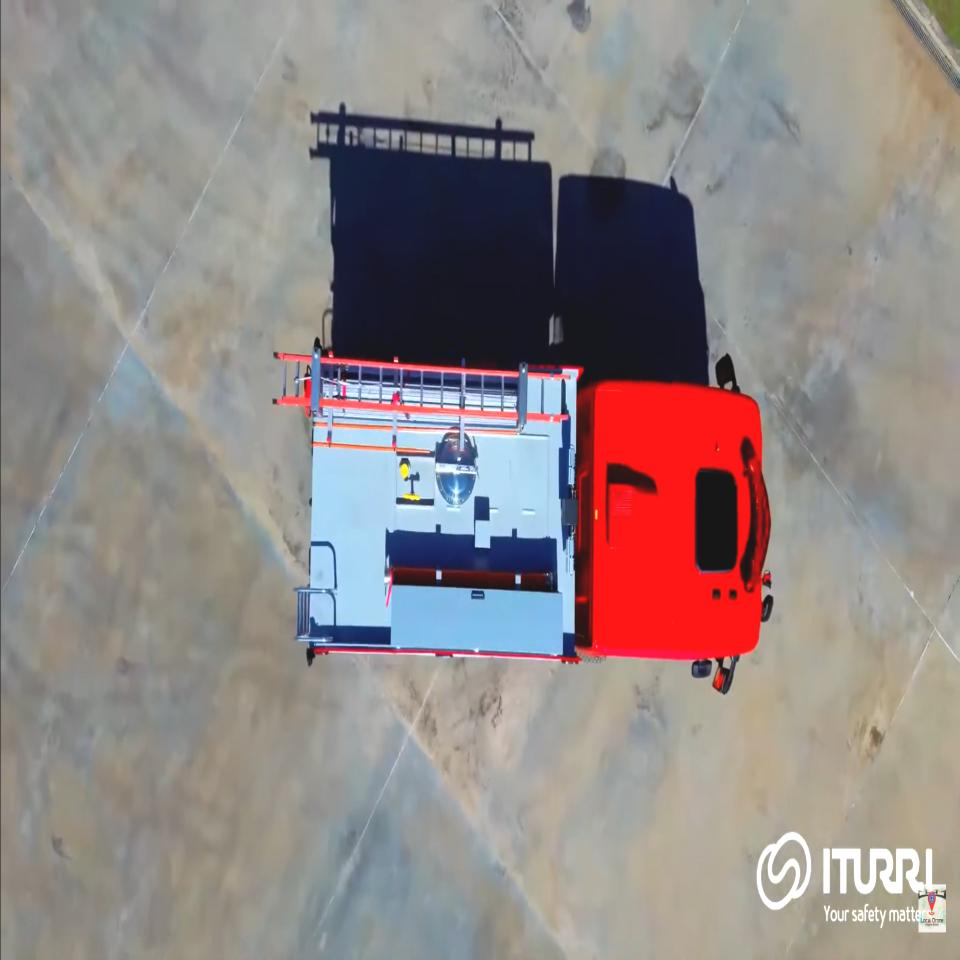bombeiro: (271, 345, 777, 695)
